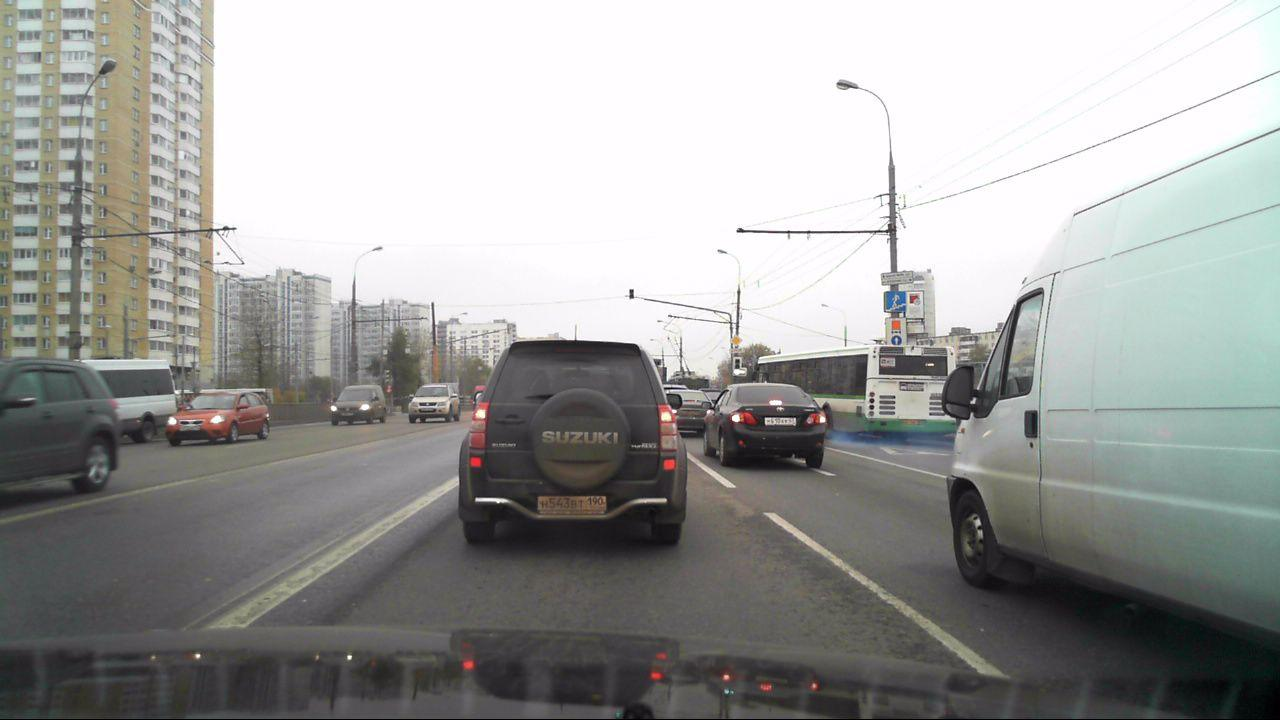4_8_1: (886, 318, 906, 349)
6_6: (883, 289, 908, 315)
